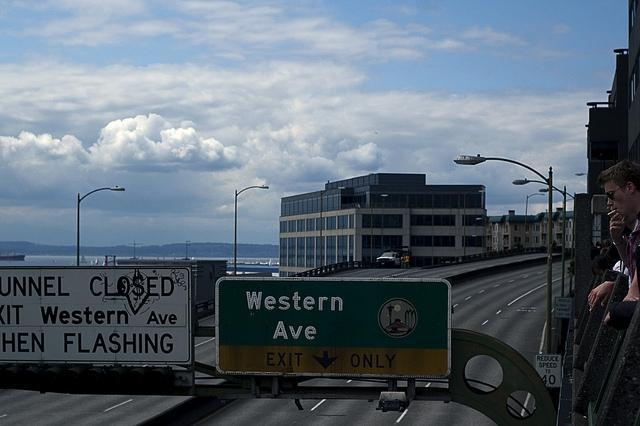truck: (376, 246, 412, 269)
